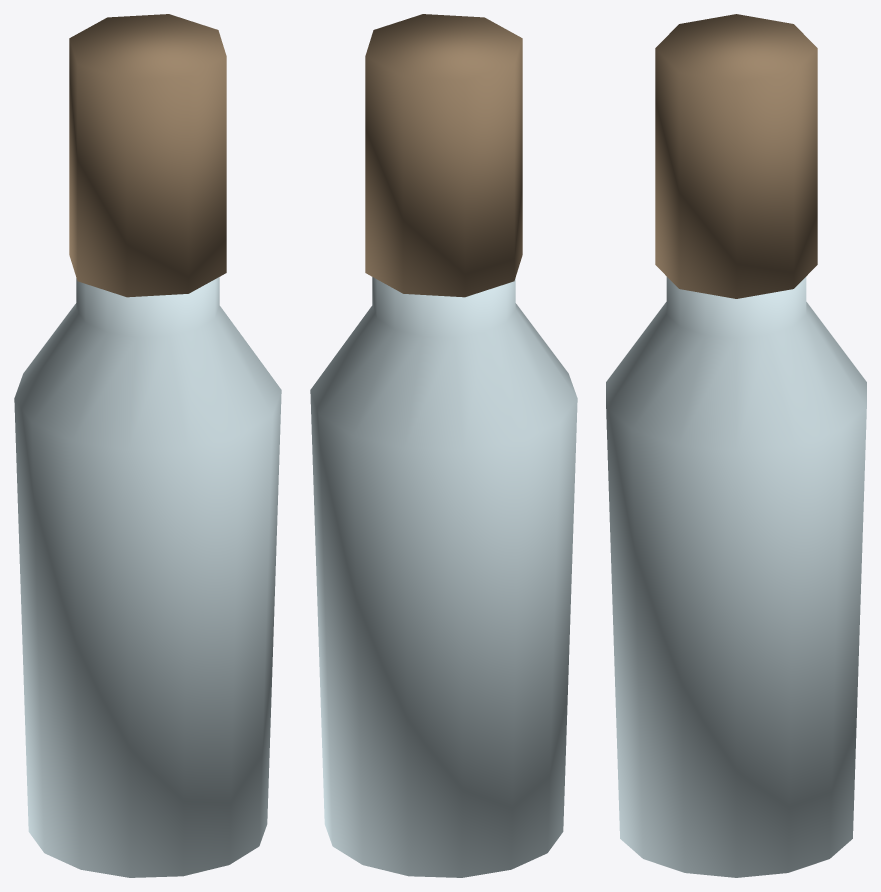
The model's file is potion_vial_amber.glb.
3 renders of one model, left to right at view 1: azimuth 30°, elevation 25°; view 2: azimuth 150°, elevation 25°; view 3: azimuth 270°, elevation 25°, orthographic.
Visible parts, largest first — view 1: GD_potion_vial_amber__m0, GD_potion_vial_amber__m2; view 2: GD_potion_vial_amber__m0, GD_potion_vial_amber__m2; view 3: GD_potion_vial_amber__m0, GD_potion_vial_amber__m2.
Part boxes in pixels (bbox=[...]): GD_potion_vial_amber__m0: bbox=[14, 277, 281, 877]; GD_potion_vial_amber__m2: bbox=[69, 14, 226, 297]; GD_potion_vial_amber__m0: bbox=[310, 277, 577, 877]; GD_potion_vial_amber__m2: bbox=[365, 14, 522, 297]; GD_potion_vial_amber__m0: bbox=[606, 277, 866, 877]; GD_potion_vial_amber__m2: bbox=[655, 14, 817, 298].
Size of the model in its own units: 0.056 by 0.18 by 0.0546.
